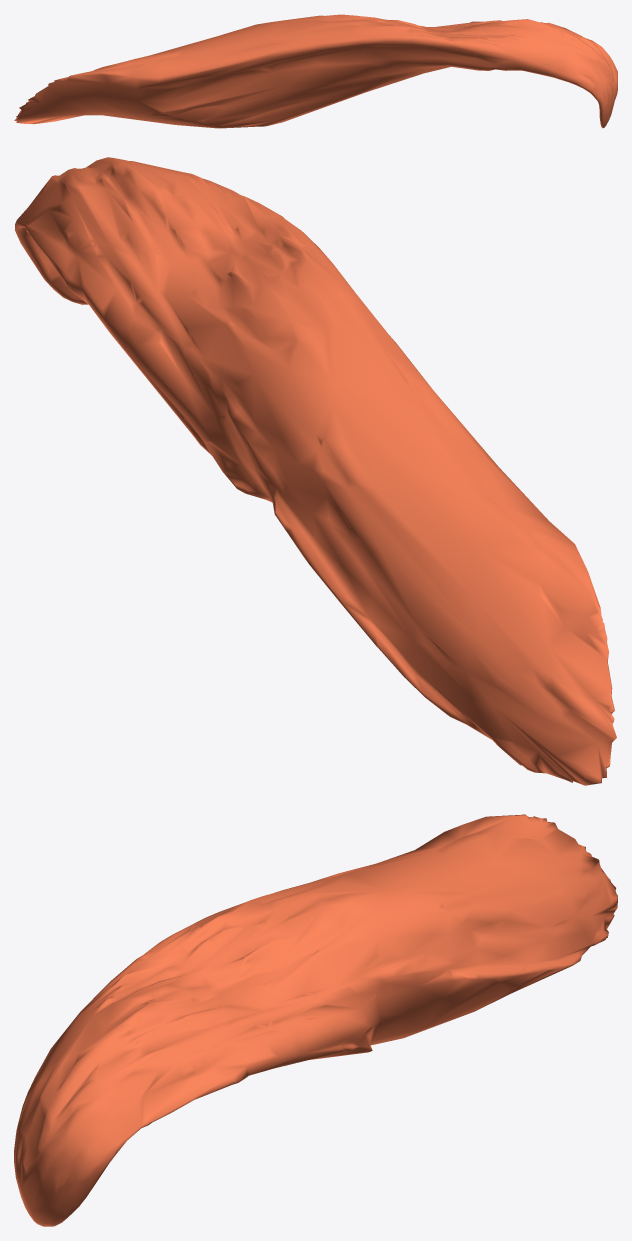
File: Supraspinatus_left.glb
The picture shows the model from 3 angles, top to bottom: view 1: azimuth 30°, elevation 25°; view 2: azimuth 150°, elevation 25°; view 3: azimuth 270°, elevation 25°; orthographic projection. The views are drawn at different scales.
Visible parts, largest first — view 1: Supraspinatus_muscle.l_Generated_Mesh_From_X3D.170; view 2: Supraspinatus_muscle.l_Generated_Mesh_From_X3D.170; view 3: Supraspinatus_muscle.l_Generated_Mesh_From_X3D.170.
Part boxes in pixels (x1=…): Supraspinatus_muscle.l_Generated_Mesh_From_X3D.170: x1=14, y1=14, x2=617, y2=128; Supraspinatus_muscle.l_Generated_Mesh_From_X3D.170: x1=15, y1=157, x2=616, y2=785; Supraspinatus_muscle.l_Generated_Mesh_From_X3D.170: x1=14, y1=814, x2=617, y2=1226.
Size of the model in its own units: 0.125 by 0.0327 by 0.0847.
